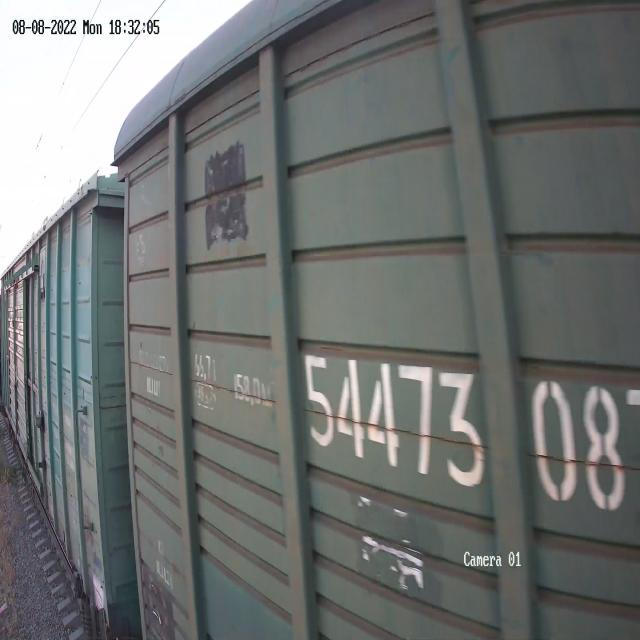boxcar: (107, 0, 640, 640), (0, 143, 133, 640)
